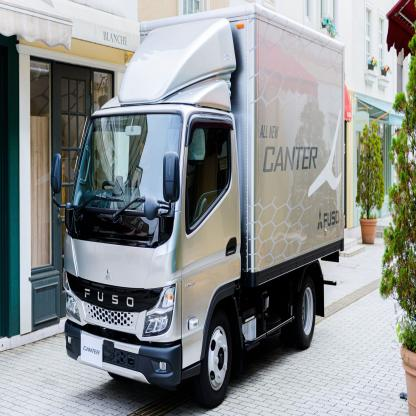truck: (49, 6, 345, 403)
